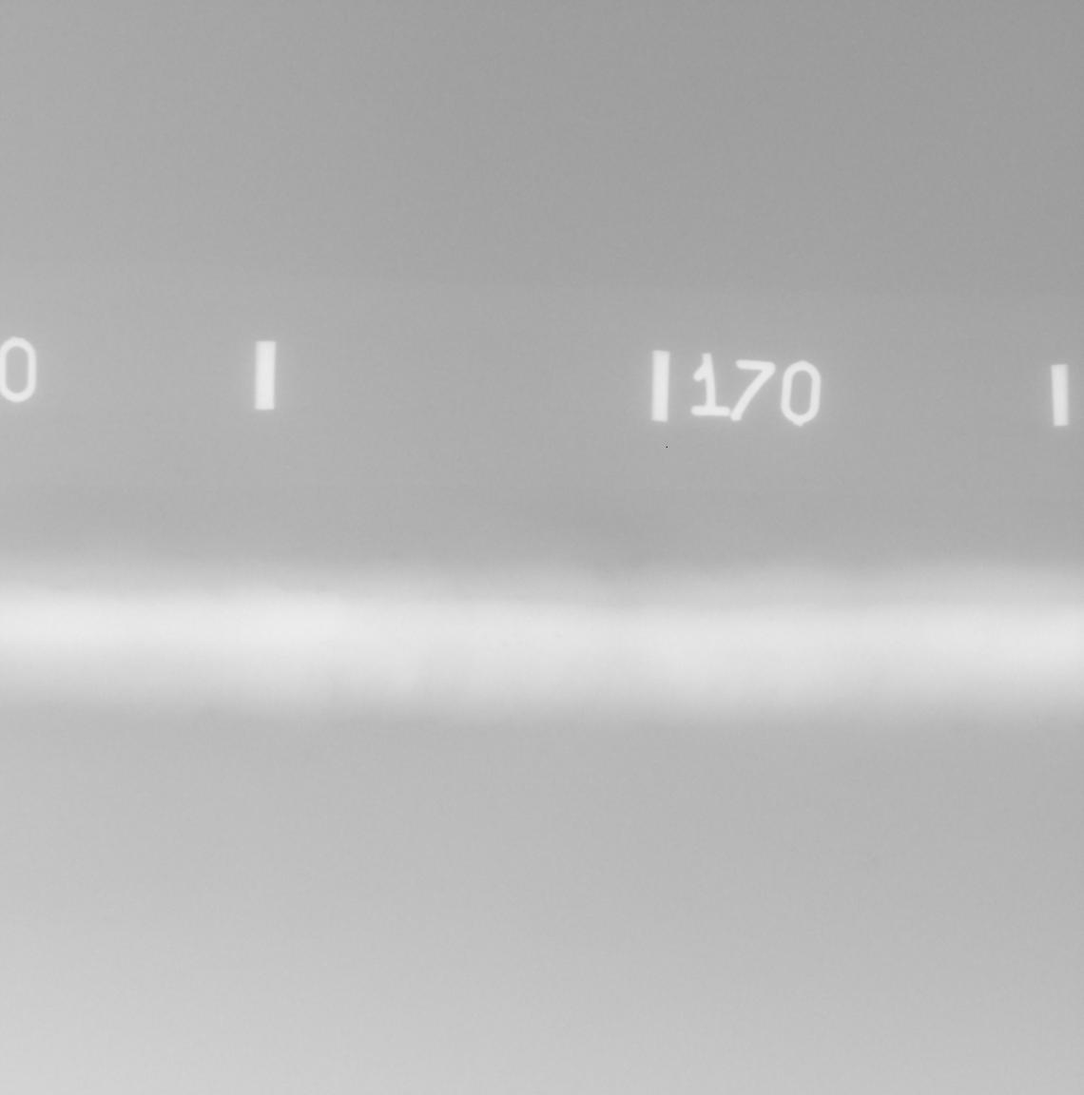Inclusion: (315, 584, 327, 592), (767, 613, 775, 622), (503, 641, 508, 646), (556, 633, 561, 637), (647, 661, 650, 665), (639, 662, 642, 666), (591, 627, 593, 632), (484, 634, 487, 637)
